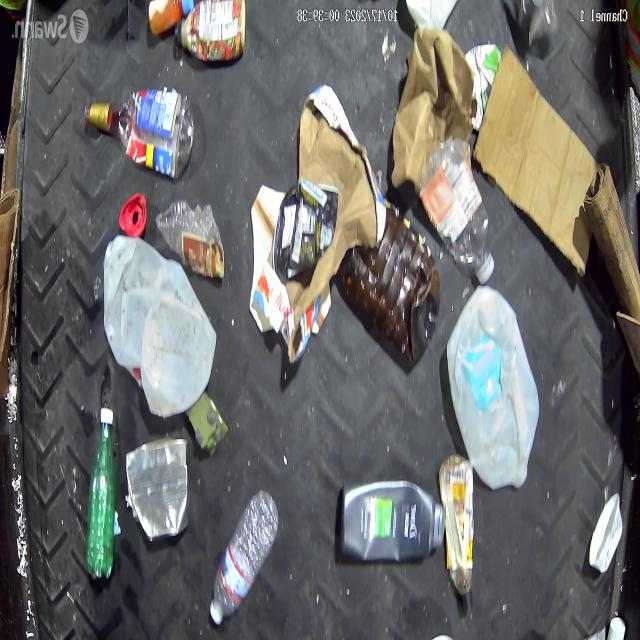milk_jug: (100, 228, 214, 415), (446, 286, 538, 497)
non_white_jug: (336, 481, 444, 561)
plastic_bottle: (419, 136, 493, 284), (208, 487, 279, 624), (83, 90, 193, 177)
